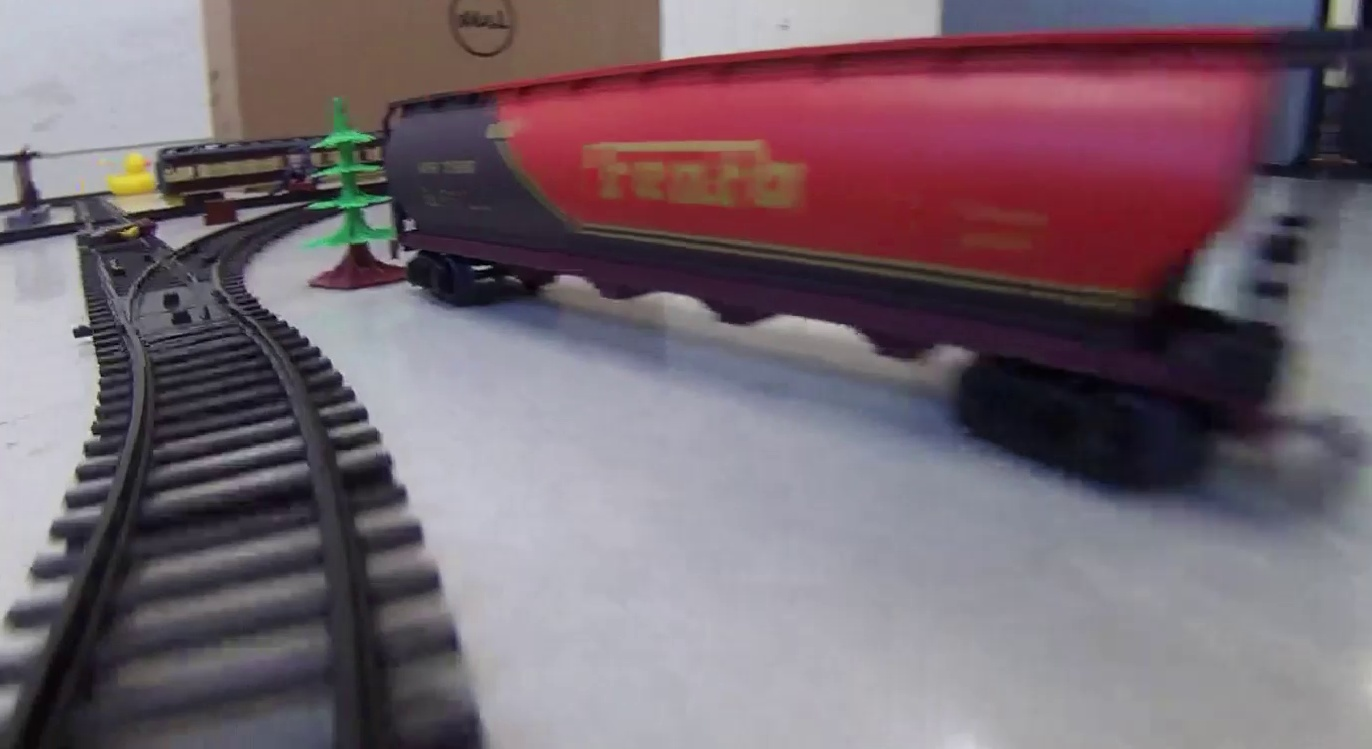tree: (306, 101, 398, 289)
